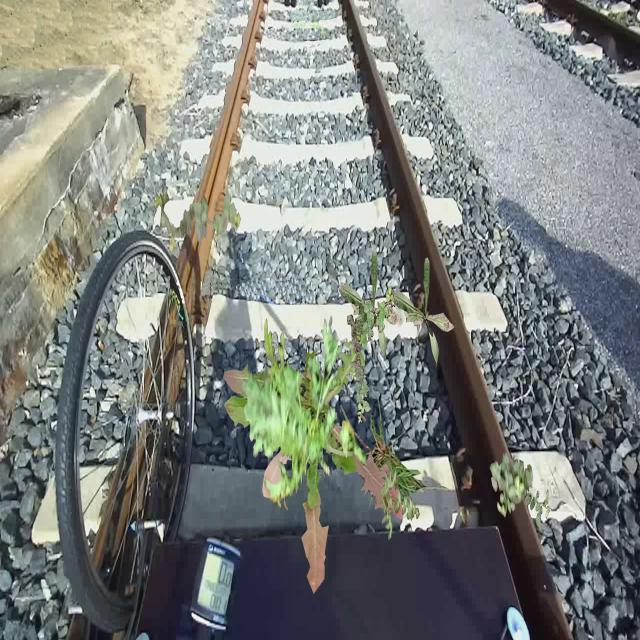Plant: (223, 317, 403, 595), (242, 316, 367, 512), (317, 394, 460, 514), (391, 257, 455, 369), (339, 250, 403, 362), (347, 287, 396, 425), (154, 184, 240, 252), (378, 469, 420, 540), (490, 451, 534, 518), (524, 487, 552, 528)
